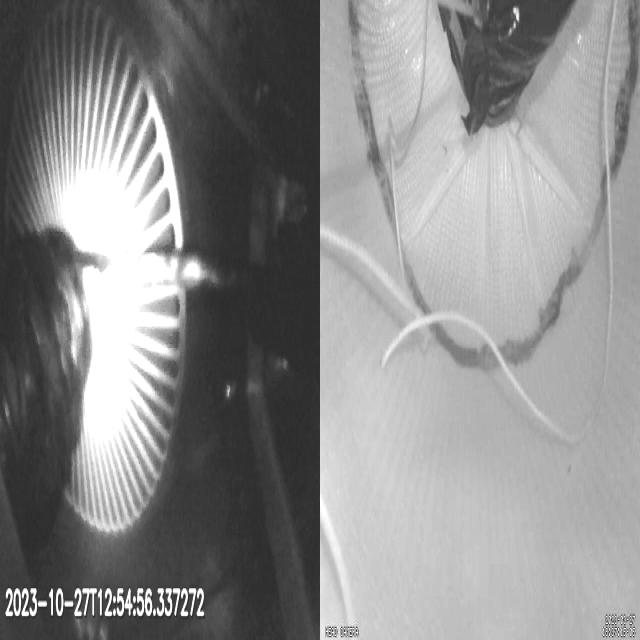red-circle: (345, 1, 640, 370)
